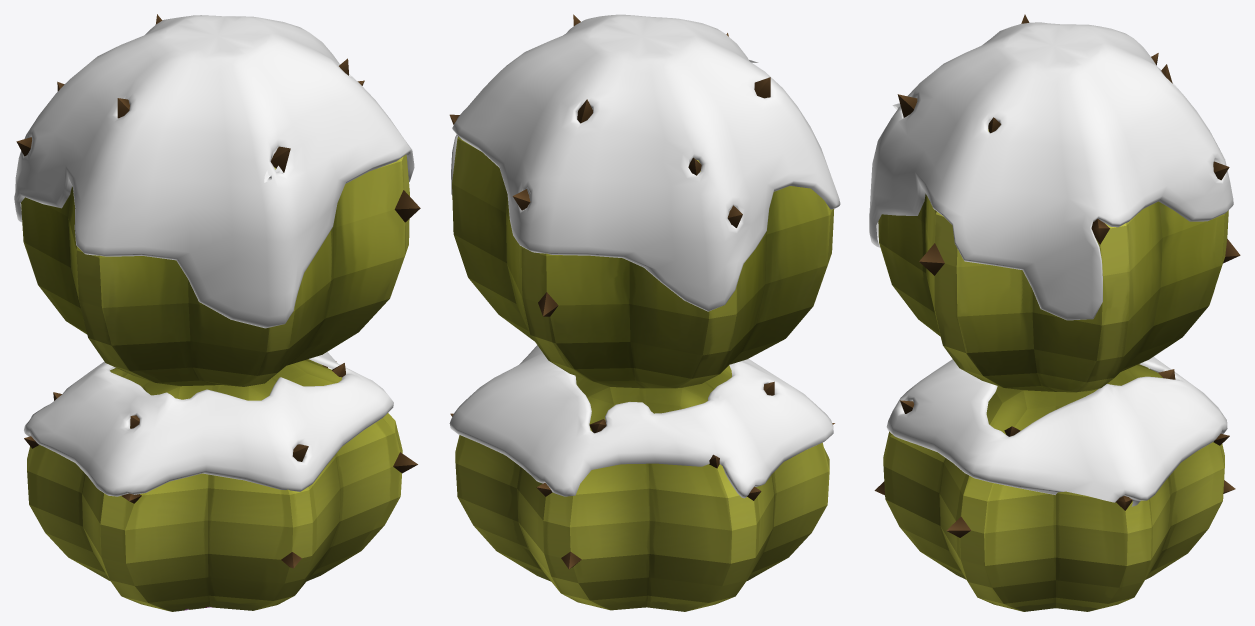
File: 선인장33.FBX
3 views of the same model, side by side, from view 1: azimuth 30°, elevation 25°; view 2: azimuth 150°, elevation 25°; view 3: azimuth 270°, elevation 25° (orthographic). The views are drawn at different scales.
Parts seen in each view (by area): view 1: Object002, Object001; view 2: Object002, Object001; view 3: Object002, Object001.
Boxes of the visible parts, x1=… form: Object002: x1=14, y1=15, x2=414, y2=496; Object001: x1=16, y1=14, x2=420, y2=611; Object002: x1=449, y1=14, x2=840, y2=498; Object001: x1=449, y1=14, x2=834, y2=611; Object002: x1=869, y1=22, x2=1233, y2=506; Object001: x1=874, y1=14, x2=1240, y2=611.
Size of the model in its own units: 156 by 236 by 152.
